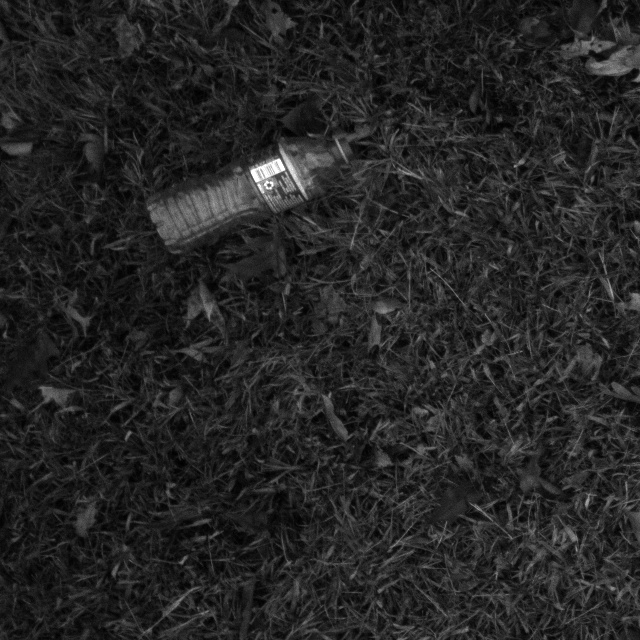bottle: (146, 125, 360, 257)
